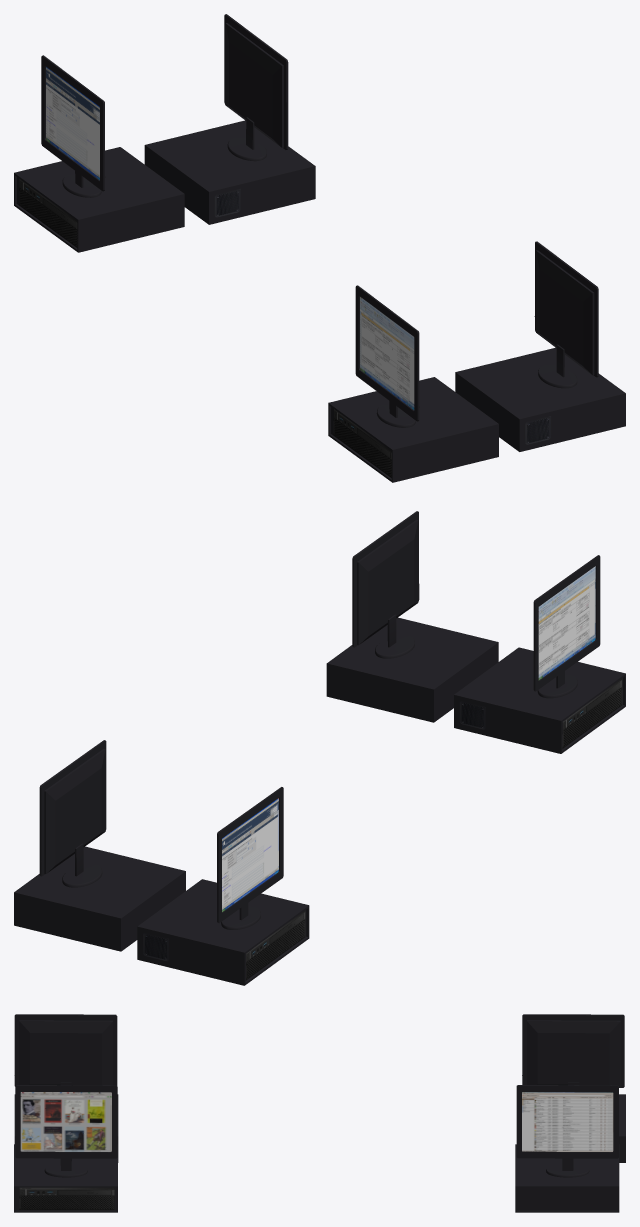
Rendered from Desktop.fbx.
The picture shows the model from 3 angles, top to bottom: view 1: azimuth 30°, elevation 25°; view 2: azimuth 150°, elevation 25°; view 3: azimuth 270°, elevation 25°; orthographic projection. The views are drawn at different scales.
Parts seen in each view (by area): view 1: Desktop; view 2: Desktop; view 3: Desktop.
Boxes of the visible parts, x1=… form: Desktop: x1=14, y1=14, x2=625, y2=482; Desktop: x1=14, y1=511, x2=625, y2=985; Desktop: x1=14, y1=1014, x2=625, y2=1212.
Size of the model in its own units: 1.05 by 0.6255 by 2.97.
